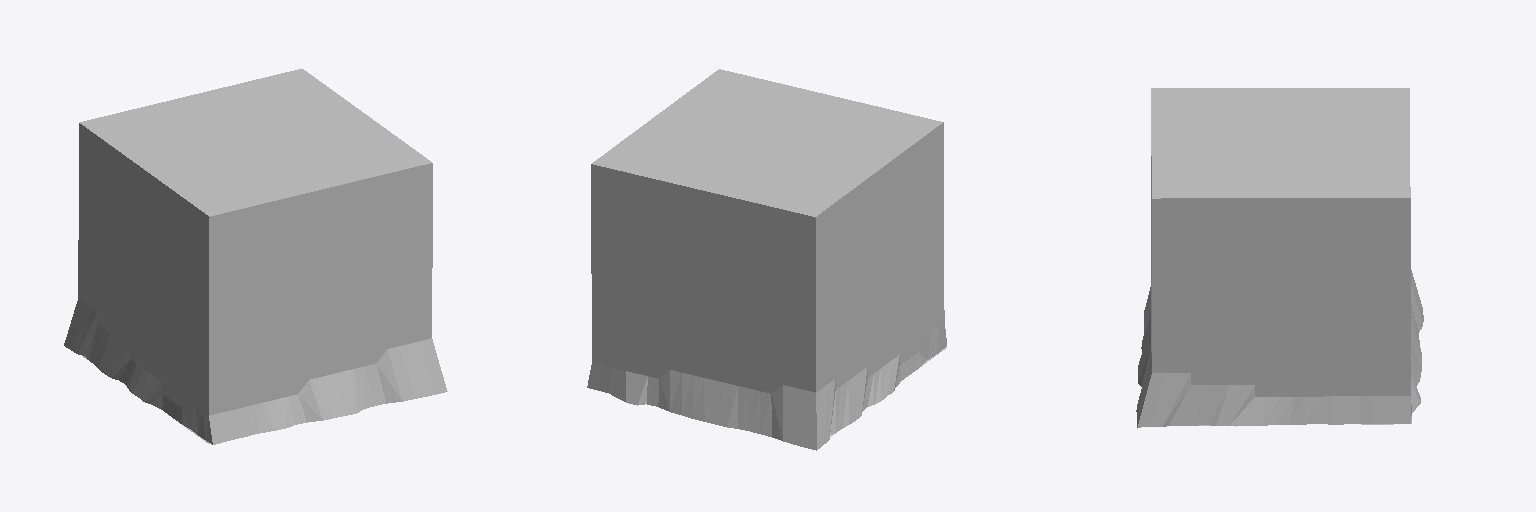
The model's file is mod0197.obj.
3 views of the same model, side by side, from view 1: azimuth 30°, elevation 25°; view 2: azimuth 150°, elevation 25°; view 3: azimuth 270°, elevation 25° (orthographic).
Visible parts, largest first — view 1: Box001; view 2: Box001; view 3: Box001.
Part boxes in pixels (left/top/right/bottom): Box001: left=64, top=69, right=447, bottom=444; Box001: left=587, top=69, right=946, bottom=450; Box001: left=1136, top=88, right=1423, bottom=427.
Size of the model in its own units: 0.5799 by 0.5222 by 0.5979.